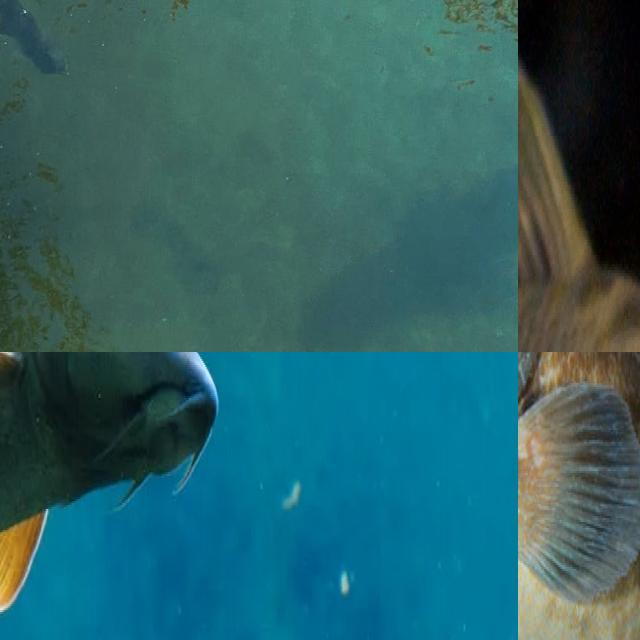fish: (0, 0, 518, 352), (0, 352, 518, 640), (518, 0, 640, 352), (518, 577, 640, 640)
